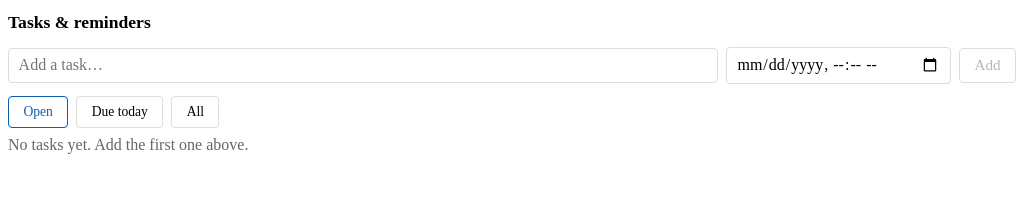
Test: TasksPanel › creates a task and shows it without a refetch
Expected: the text "No tasks yet. Add the first one above." is shown, [8,136,248,153]
In the field named "New task": (363, 65) [8,48,718,83], type "Chase refund"
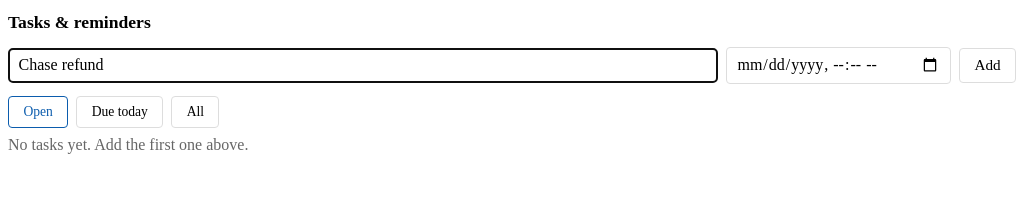
Click the button "Add": (988, 65) [959,48,1016,83]
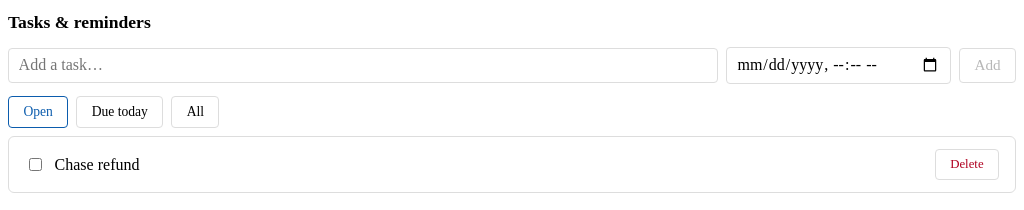
Result: the text "Chase refund" is shown at [55,156,140,173]
